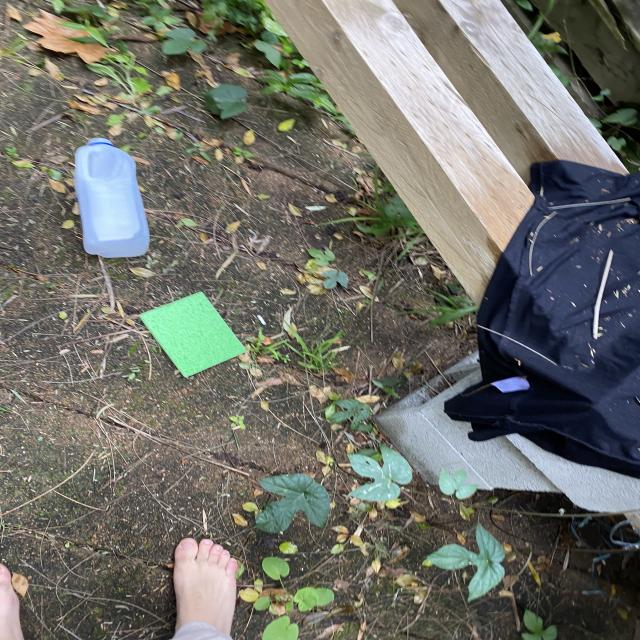bottle: (74, 137, 150, 258)
sponge: (140, 292, 248, 378)
